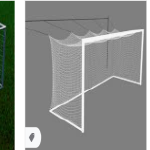goals: (47, 26, 146, 136)
